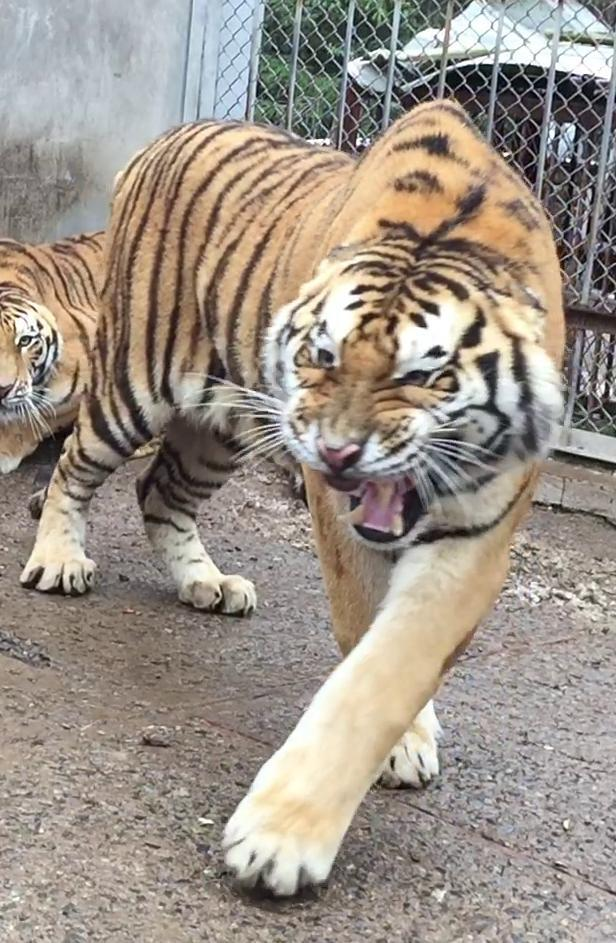tiger: (21, 100, 564, 893)
